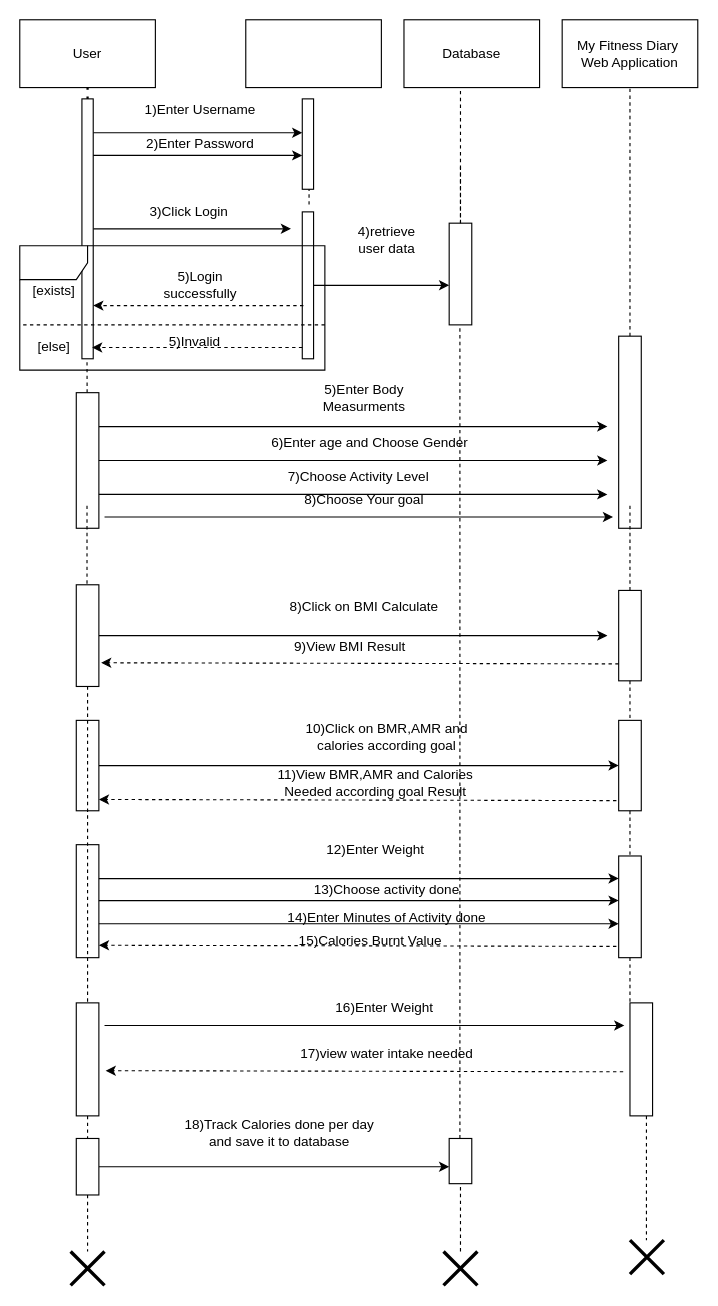
This 718x1306 diagram has some shape labels left out. Each missing label, with the box of its shape:
alternative: (19, 245, 325, 370)
Login: (245, 19, 381, 88)
